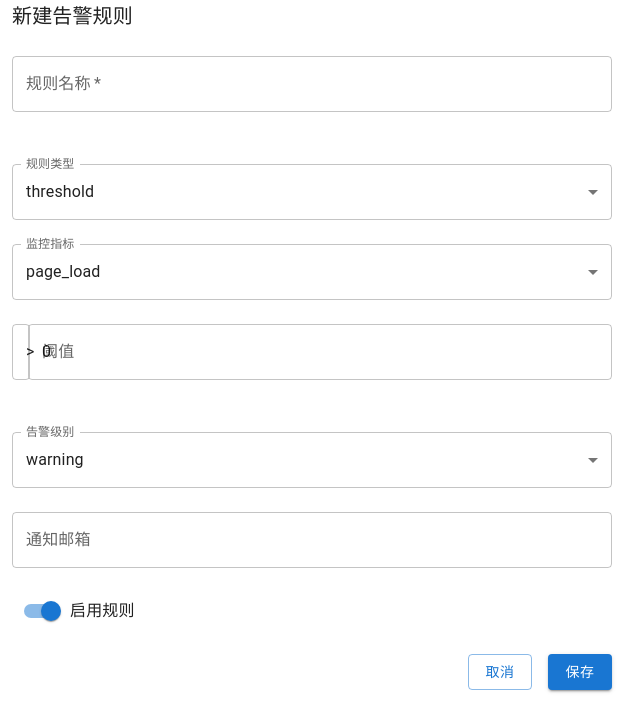
AlertRuleForm › 表单验证 › validates threshold values
The width and height of the screenshot is (630, 710).
Replace the text in the number field named "阈值" with "-1" at (320, 352), box left=28, top=324, right=612, bottom=380
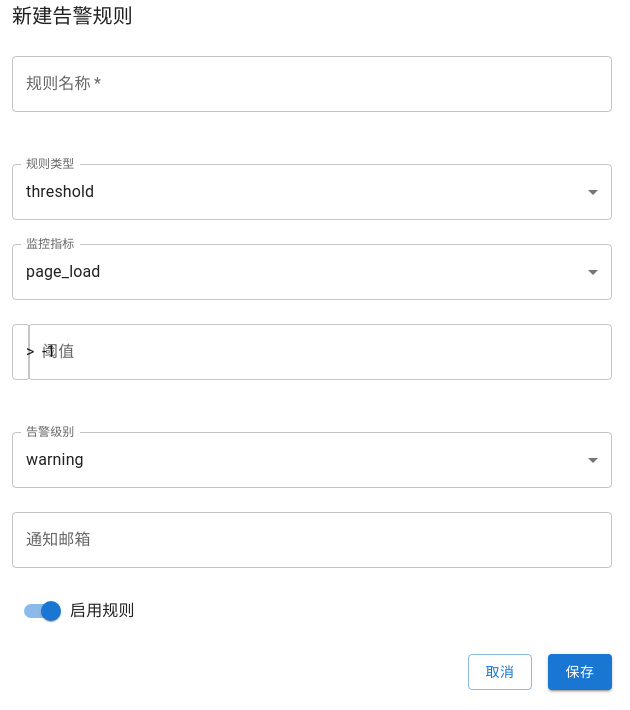
Submit the form
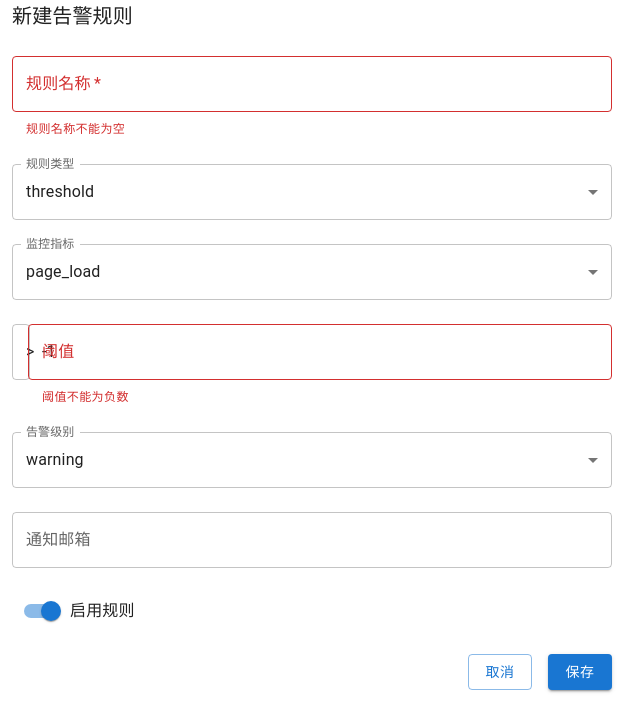
expect the text "阈值不能为负数" is shown: met, box left=42, top=390, right=129, bottom=404
